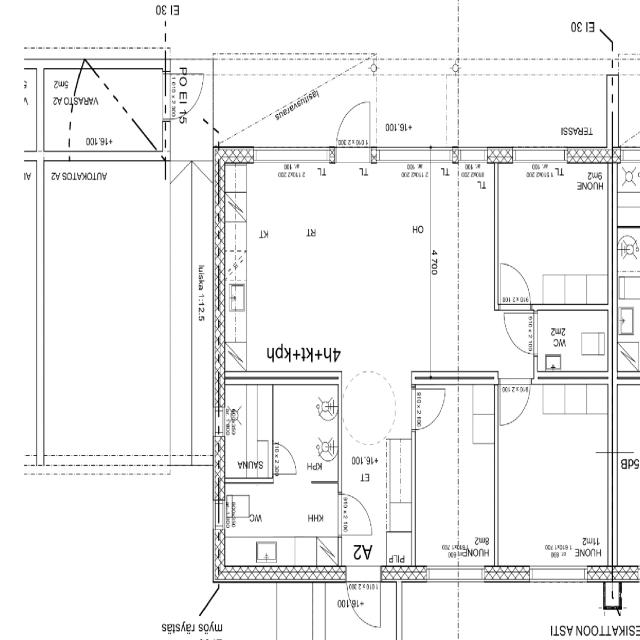door: (336, 100, 370, 162), (347, 566, 380, 628), (162, 73, 204, 119), (503, 313, 538, 354), (412, 389, 446, 430), (338, 494, 372, 535), (500, 264, 530, 310), (500, 379, 530, 425), (272, 444, 295, 474)
